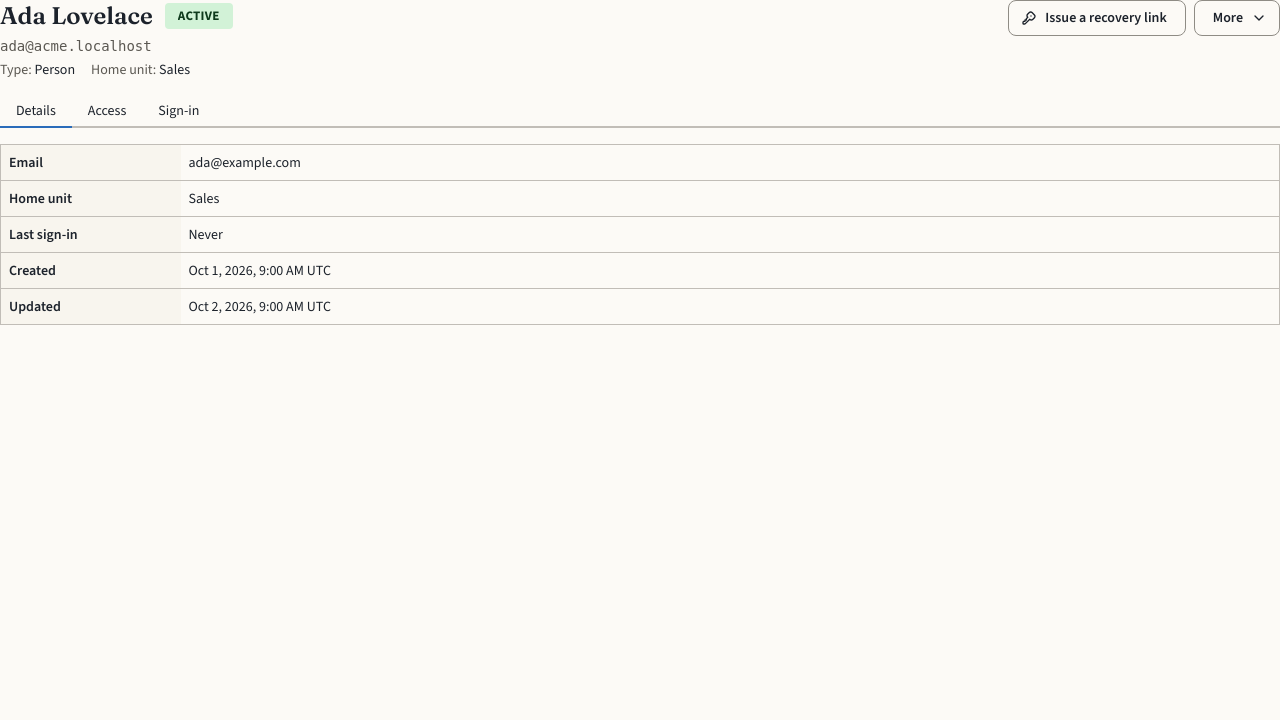
the user record's actions › issue a recovery link behind a confirmation and show it once with a copy button [TF-017 AC1, ADR-0046]
The width and height of the screenshot is (1280, 720).
Click the button "Issue a recovery link" at (1097, 18), box left=1008, top=0, right=1186, bottom=36
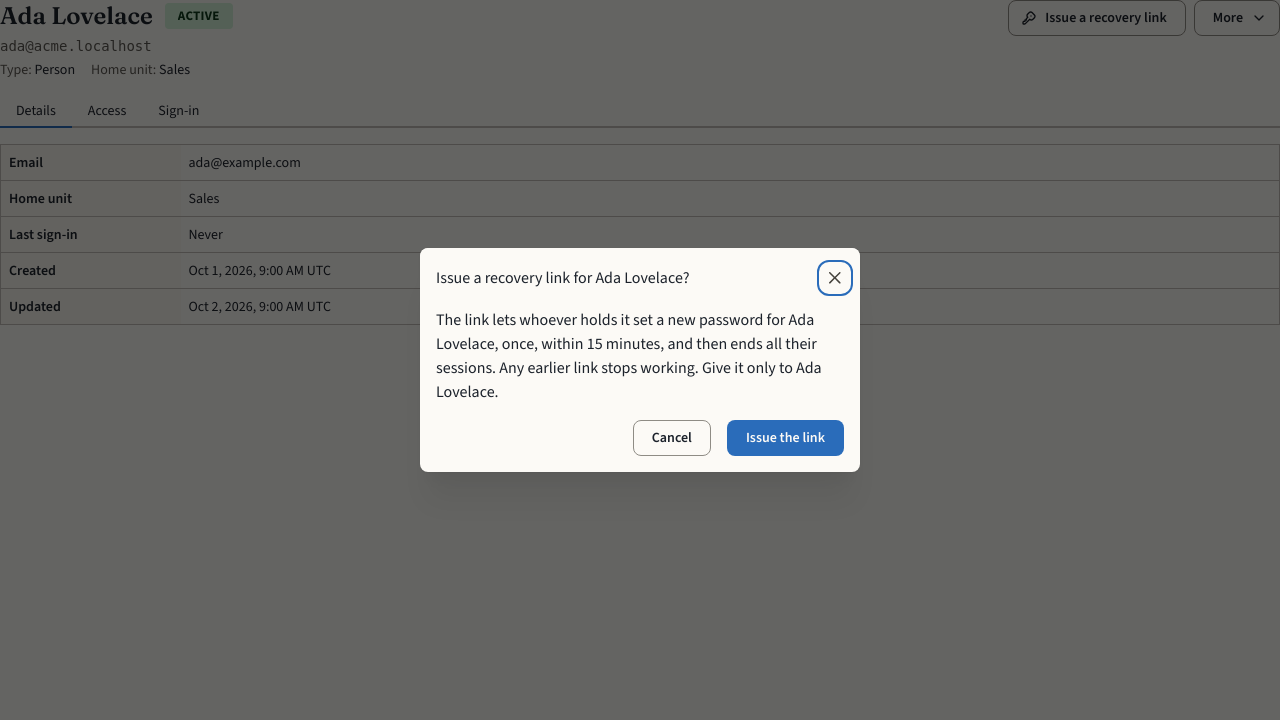
Expected: the dialog "Issue a recovery link for Ada Lovelace?" shows "once, within 15 minutes", left=436, top=309, right=822, bottom=402
Click the button "Issue the link" at (785, 438), box left=727, top=420, right=844, bottom=456
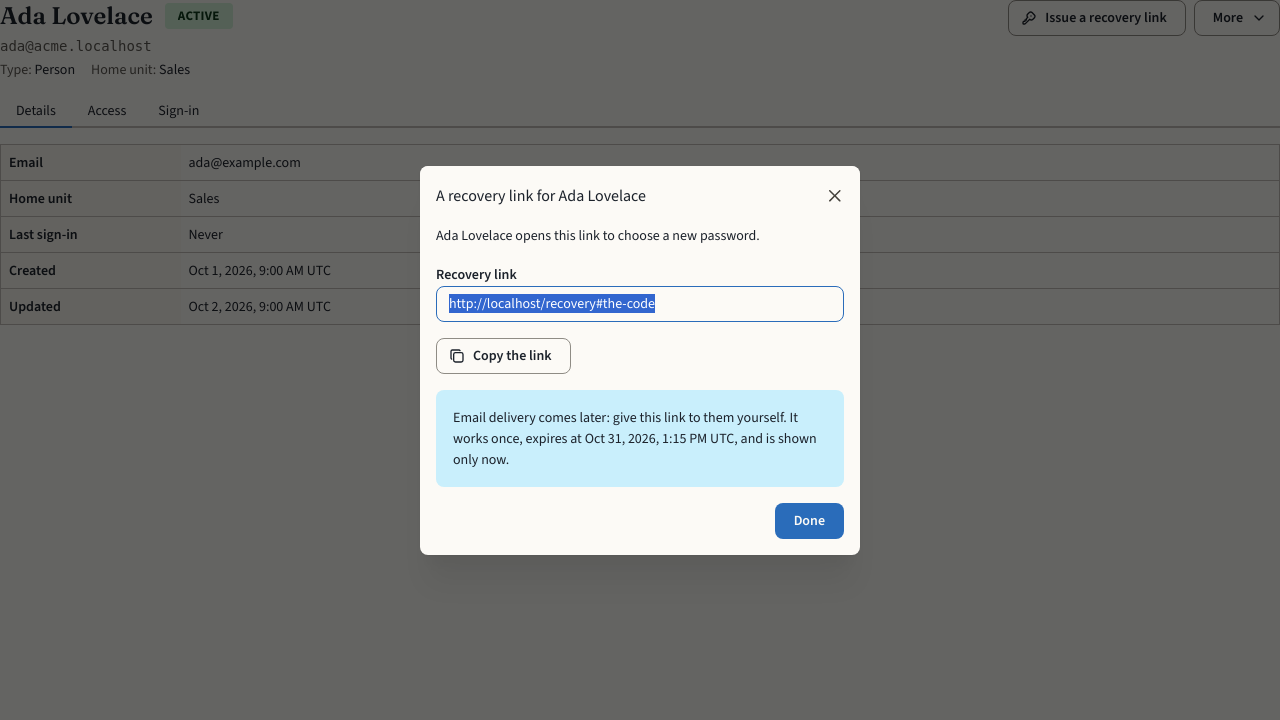
Expected: the button "Copy the link" is shown, left=436, top=338, right=571, bottom=374
Expected: the dialog "A recovery link for Ada Lovelace" shows "is shown only now", left=453, top=408, right=817, bottom=468
